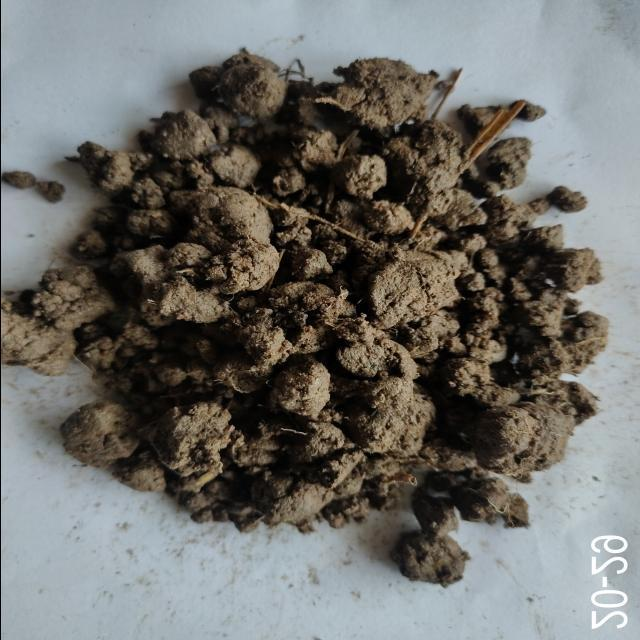soil: (154, 175, 514, 471)
